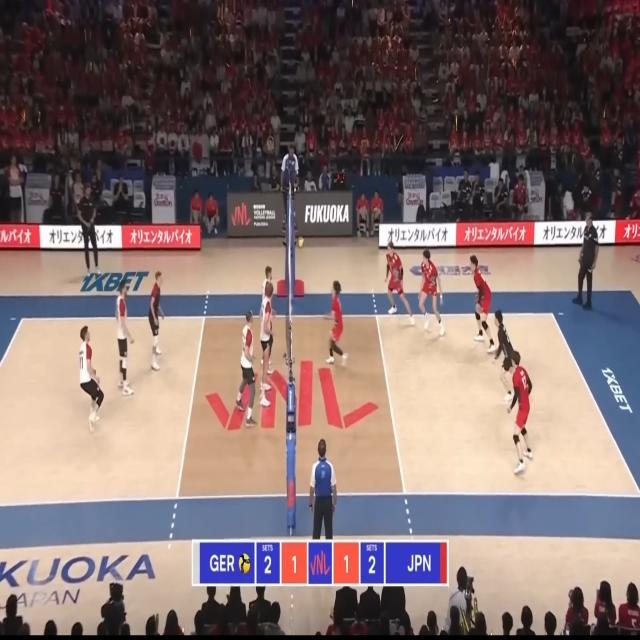ball: (297, 235, 304, 249)
